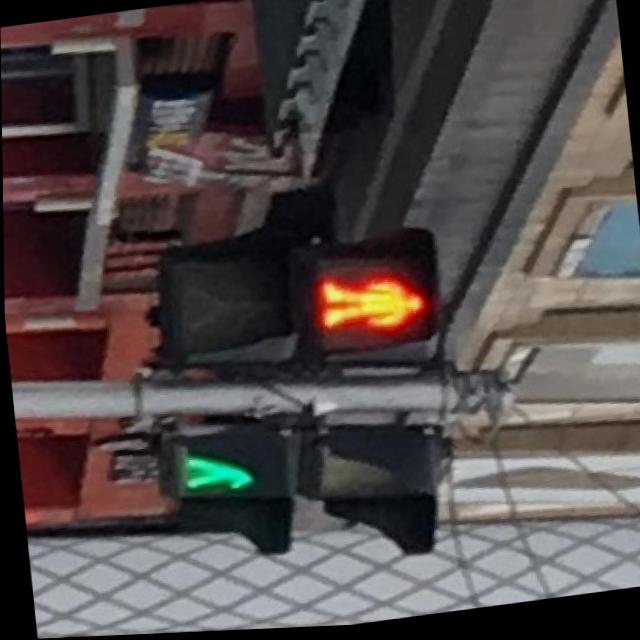red_light: (305, 252, 433, 360)
